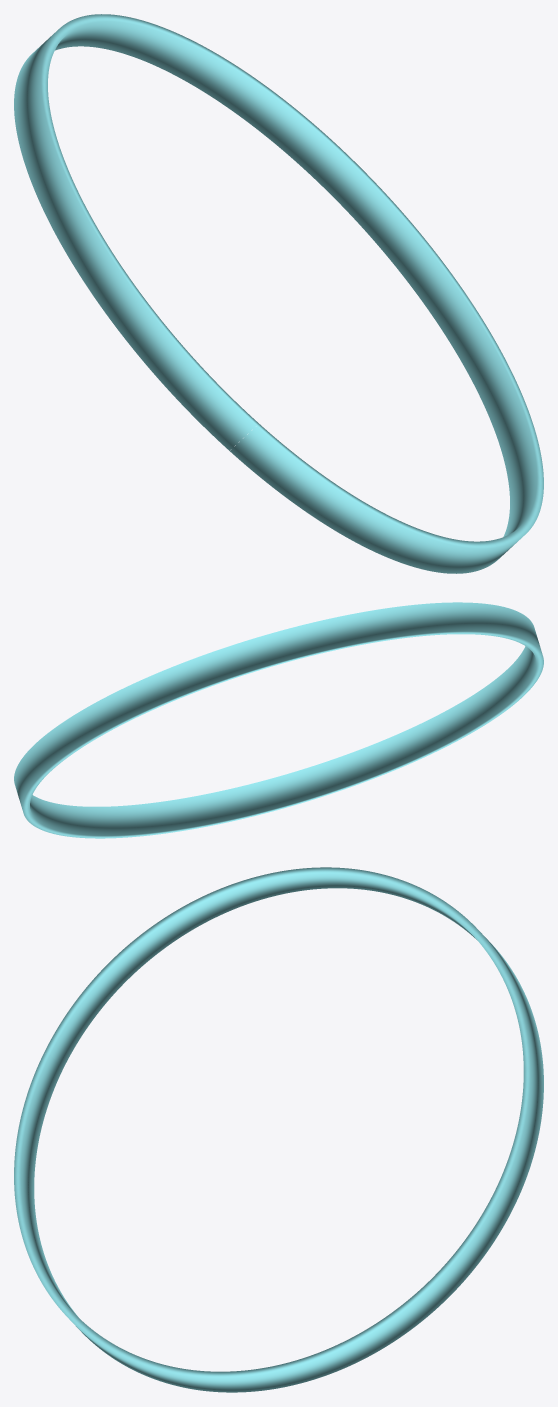
File: coil_coil_9_tube.gltf
3 renders of one model, top to bottom at view 1: azimuth 30°, elevation 25°; view 2: azimuth 150°, elevation 25°; view 3: azimuth 270°, elevation 25°, orthographic. The views are drawn at different scales.
Visible parts, largest first — view 1: Renderer Node; view 2: Renderer Node; view 3: Renderer Node.
Boxes of the visible parts, left/top/right/bottom form: Renderer Node: left=14, top=14, right=543, bottom=573; Renderer Node: left=14, top=602, right=543, bottom=838; Renderer Node: left=14, top=867, right=543, bottom=1392.
Bounding box in the file's own units: 0.5255 × 0.4428 × 0.5709.
